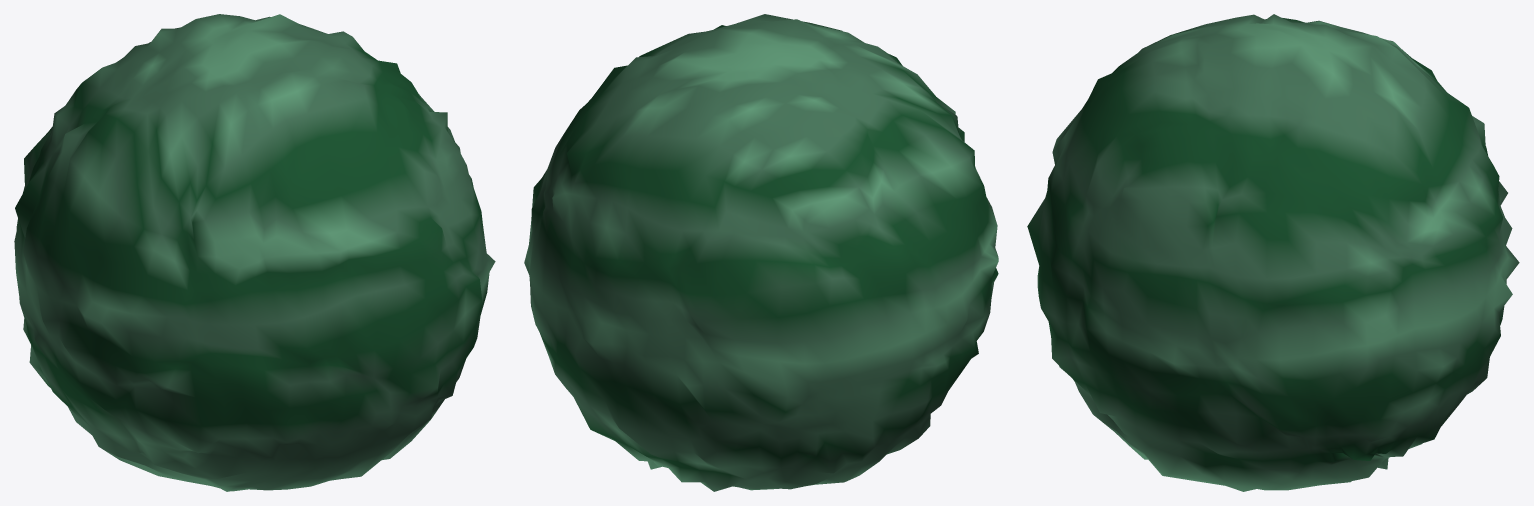
3 views of the same model, side by side, from view 1: azimuth 30°, elevation 25°; view 2: azimuth 150°, elevation 25°; view 3: azimuth 270°, elevation 25° (orthographic).
Visible parts, largest first — view 1: Earth; view 2: Earth; view 3: Earth.
Part boxes in pixels (x1=…): Earth: x1=14, y1=14, x2=495, y2=491; Earth: x1=524, y1=14, x2=998, y2=491; Earth: x1=1027, y1=14, x2=1519, y2=491.
Bounding box in the file's own units: 6022 × 6169 × 6022.
